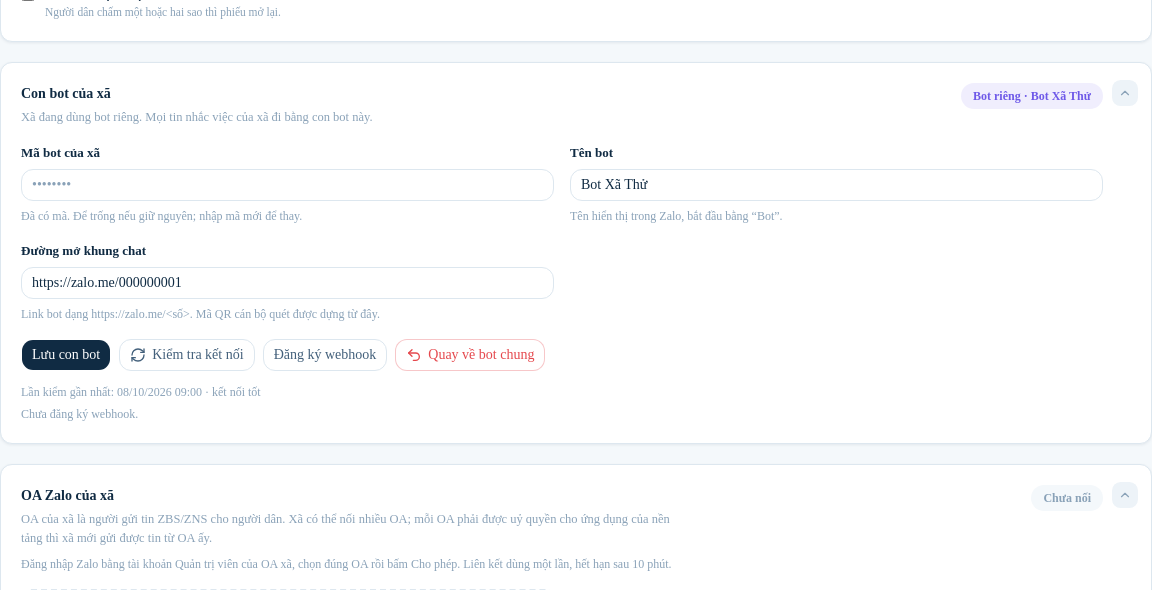
Test: Nhóm Zalo — zalo-groups (ADR 0092) › 'Quay về bot chung' names the groups too
The image size is (1152, 590).
(page scrolled)
Click the button "Quay về bot chung" at (470, 355), box [395, 339, 546, 371]
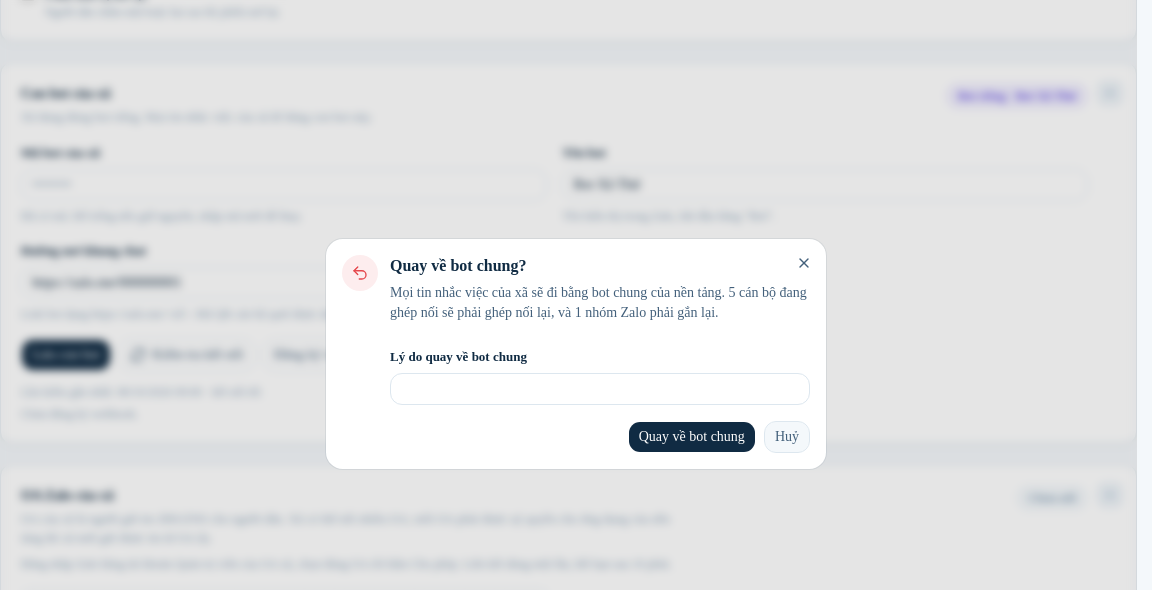
Expected: the text "5 cán bộ đang ghép nối sẽ phải ghép nối lại, và 1 nhóm Zalo phải gắn lại." is shown, [390, 285, 807, 320]
